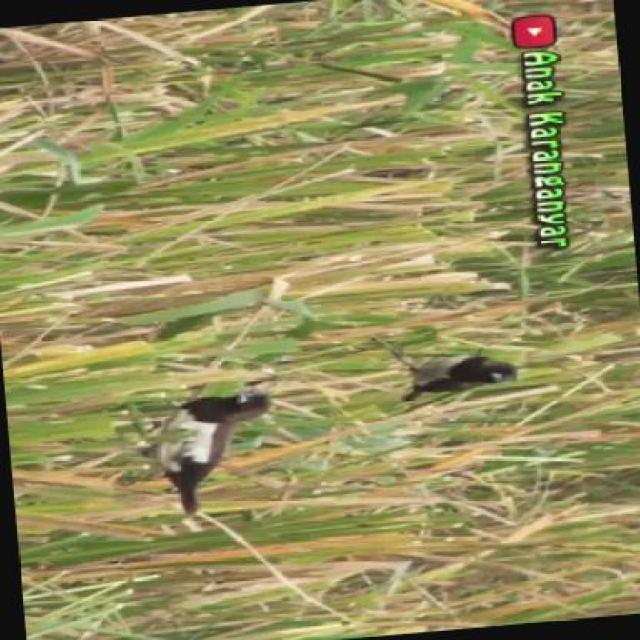Bird: (152, 372, 281, 522), (398, 337, 527, 418)
